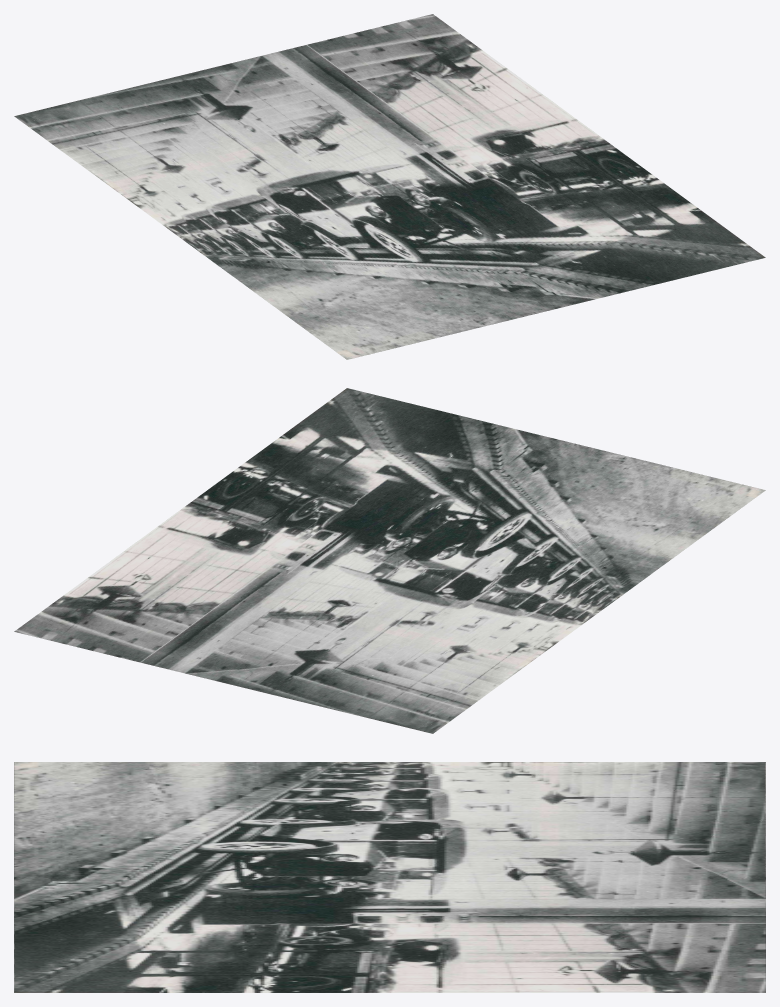
Rendered from 2punto5.obj.
The picture shows the model from 3 angles, top to bottom: view 1: azimuth 30°, elevation 25°; view 2: azimuth 150°, elevation 25°; view 3: azimuth 270°, elevation 25°; orthographic projection. The views are drawn at different scales.
Visible parts, largest first — view 1: Plane002; view 2: Plane002; view 3: Plane002.
Boxes of the visible parts, bbox=[...] form: Plane002: bbox=[14, 14, 765, 359]; Plane002: bbox=[14, 388, 765, 733]; Plane002: bbox=[14, 762, 765, 992].
Bounding box in the file's own units: 5.24 × 0 × 7.21.
1 material, 1 textured.
